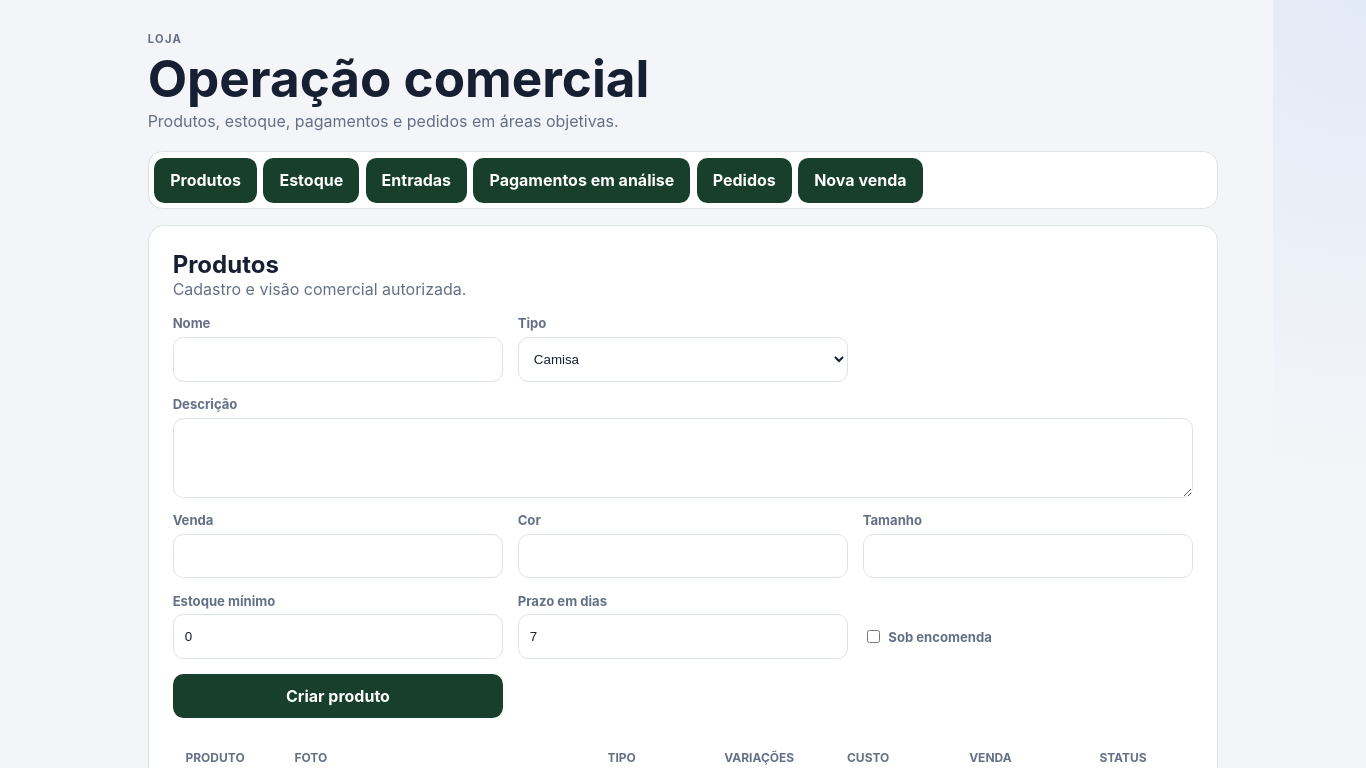
Scenario: StoreOperationsPage › shows stock alert, product administration and review queue to ADMIN
The image size is (1366, 768).
Expected: the heading "Produtos" is shown, [173,250,279,279]
Click the button "Estoque".
click(311, 180)  # box [263,158,359,203]
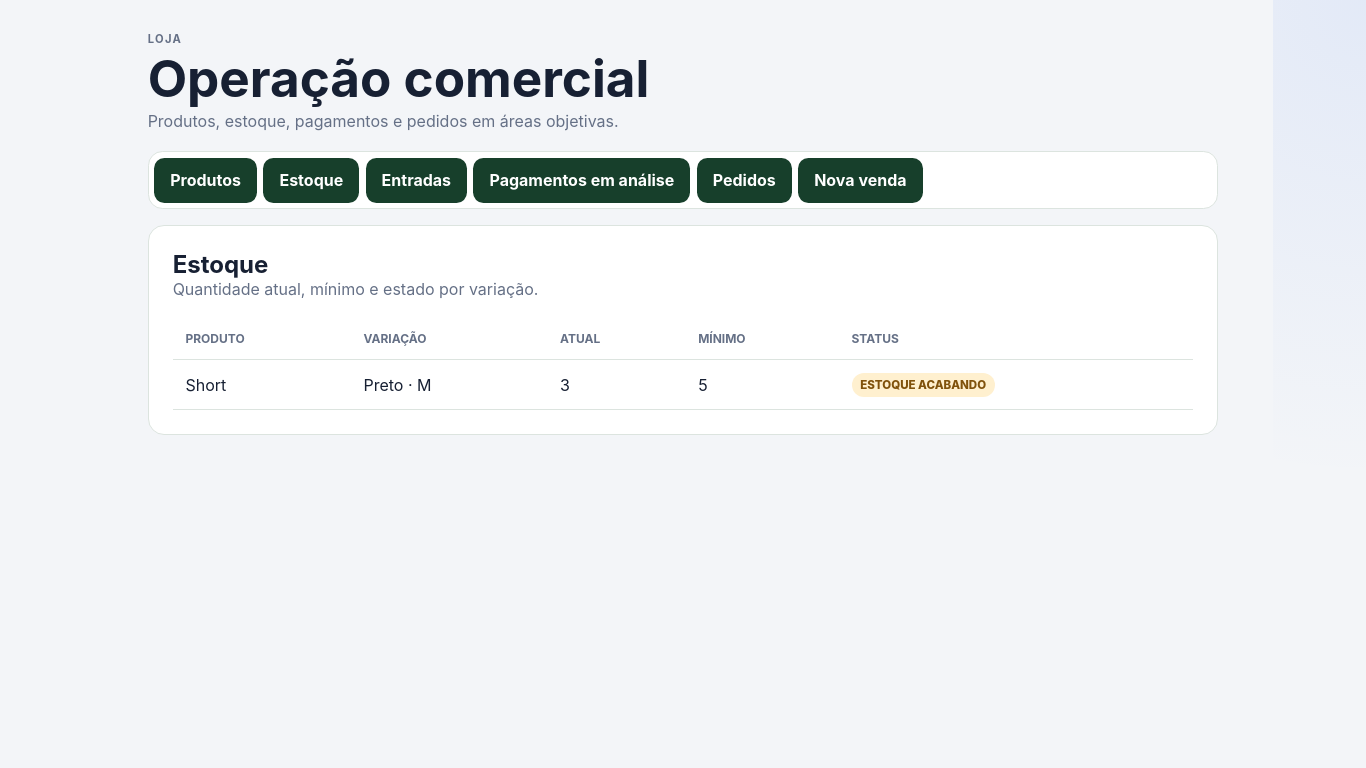
Result: the text "ESTOQUE ACABANDO" is shown at [852,373,995,397]
Click the button "Pagamentos em análise".
click(582, 180)  # box [474,158,690,203]
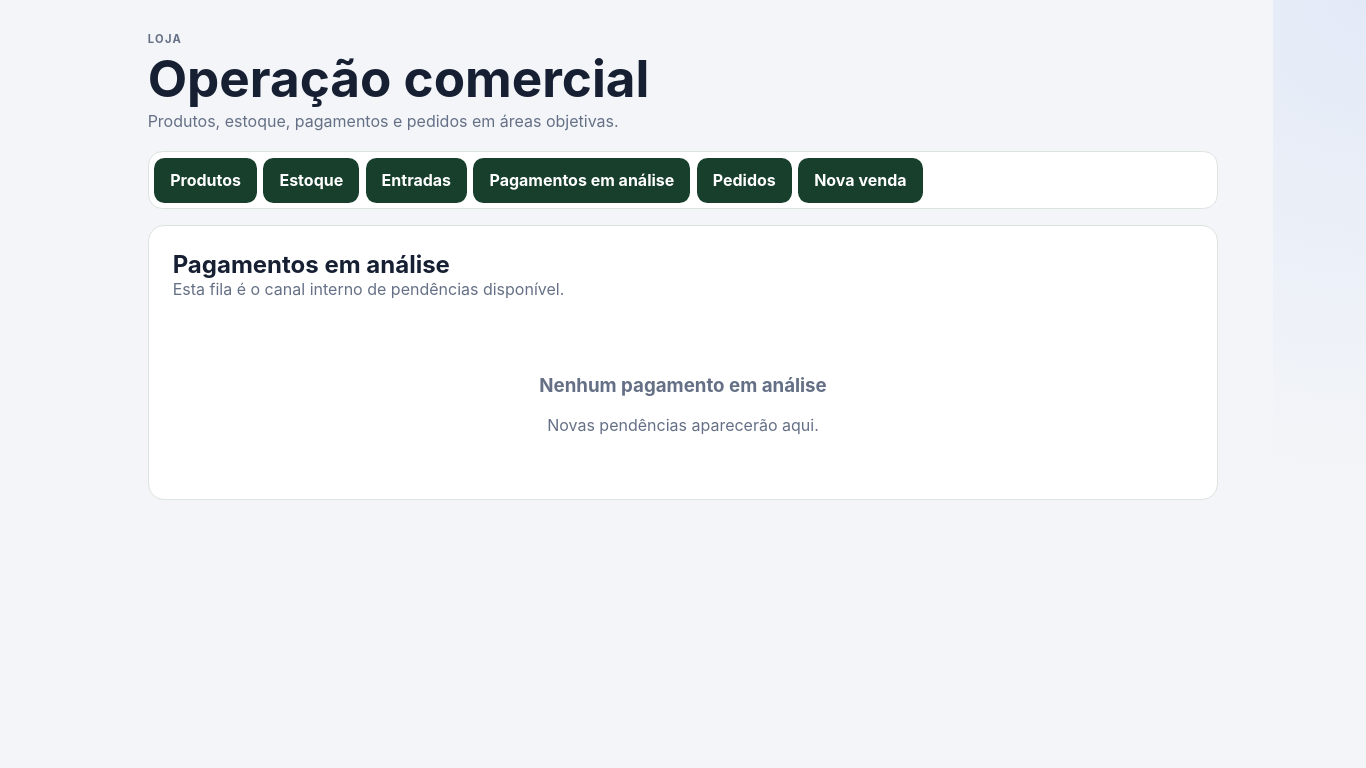
Result: the heading "Pagamentos em análise" is shown at [173,250,450,279]
